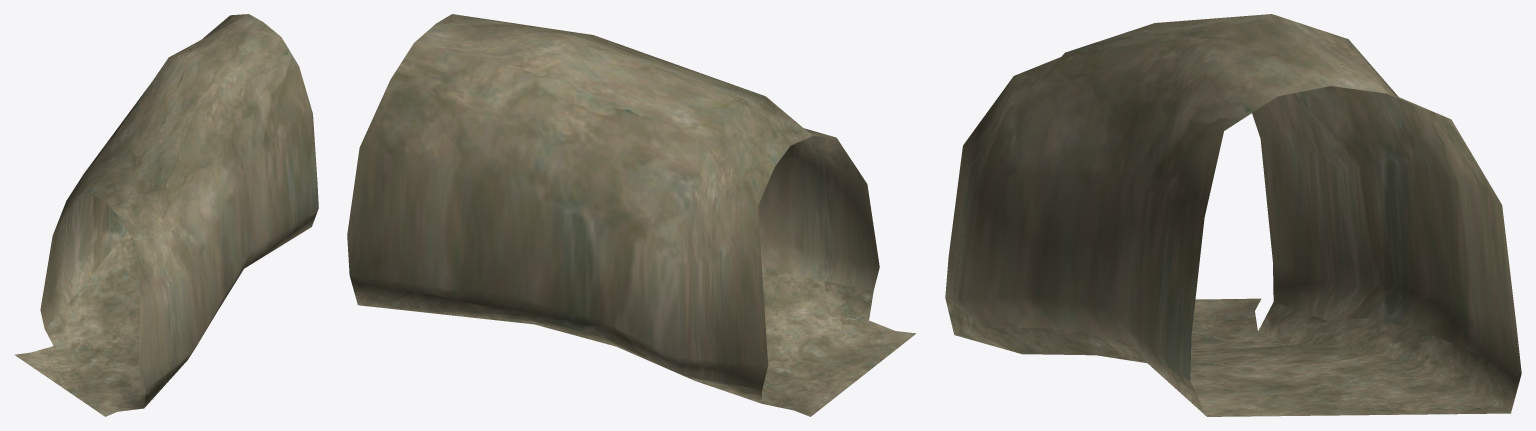
The model's file is EKH_GROTTO_PS_GR_TUNNEL04.fbx.
3 views of the same model, side by side, from view 1: azimuth 30°, elevation 25°; view 2: azimuth 150°, elevation 25°; view 3: azimuth 270°, elevation 25° (orthographic). The views are drawn at different scales.
Parts seen in each view (by area): view 1: EKH_GROTTO_PS_GR_TUNNEL04; view 2: EKH_GROTTO_PS_GR_TUNNEL04; view 3: EKH_GROTTO_PS_GR_TUNNEL04.
Part boxes in pixels (bbox=[...]): EKH_GROTTO_PS_GR_TUNNEL04: bbox=[14, 14, 318, 416]; EKH_GROTTO_PS_GR_TUNNEL04: bbox=[347, 14, 916, 416]; EKH_GROTTO_PS_GR_TUNNEL04: bbox=[945, 14, 1521, 416].
Bounding box in the file's own units: 46702 × 39538 × 46622.
1 material, 1 textured.
